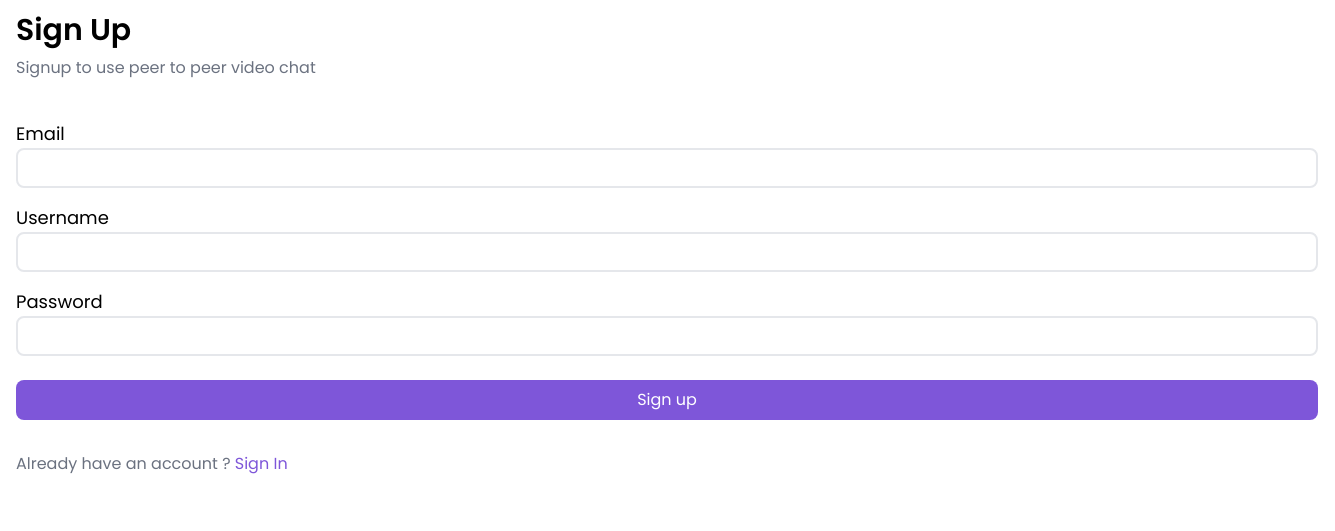
Test case: Signup form › should pop error for no password when submitted form with correct email
This screenshot has width=1335, height=531.
Type "test@test.com" into the field labelled "Email". click: coordinates (667, 168)
box: x1=16 y1=148 x2=1318 y2=188
Then press Enter
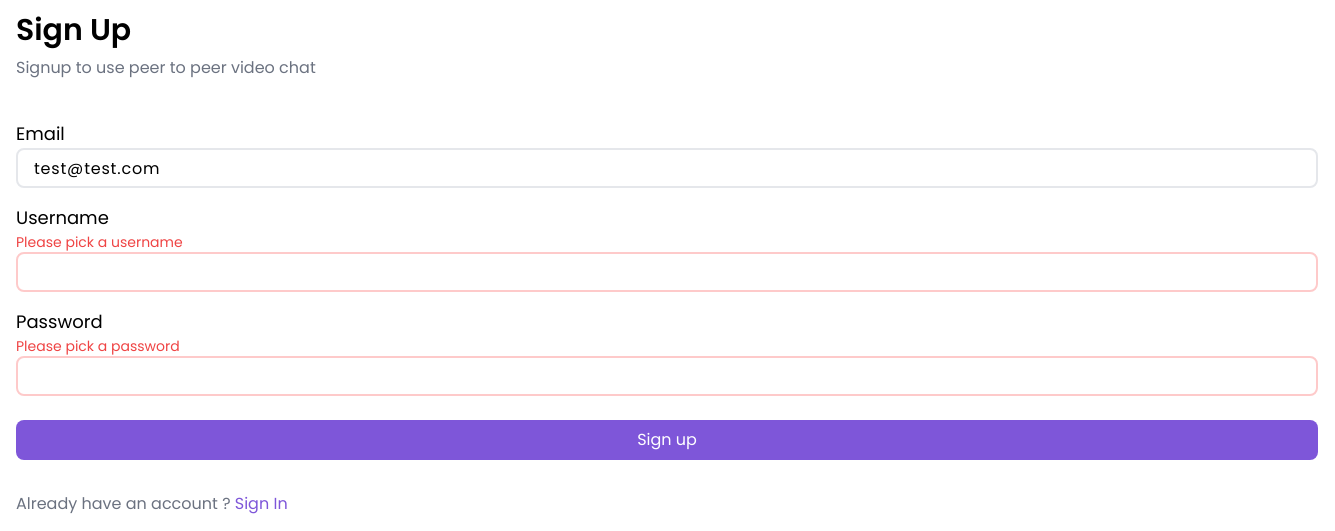
Expected: the text "Please pick a password" is shown, x1=16 y1=336 x2=180 y2=356
